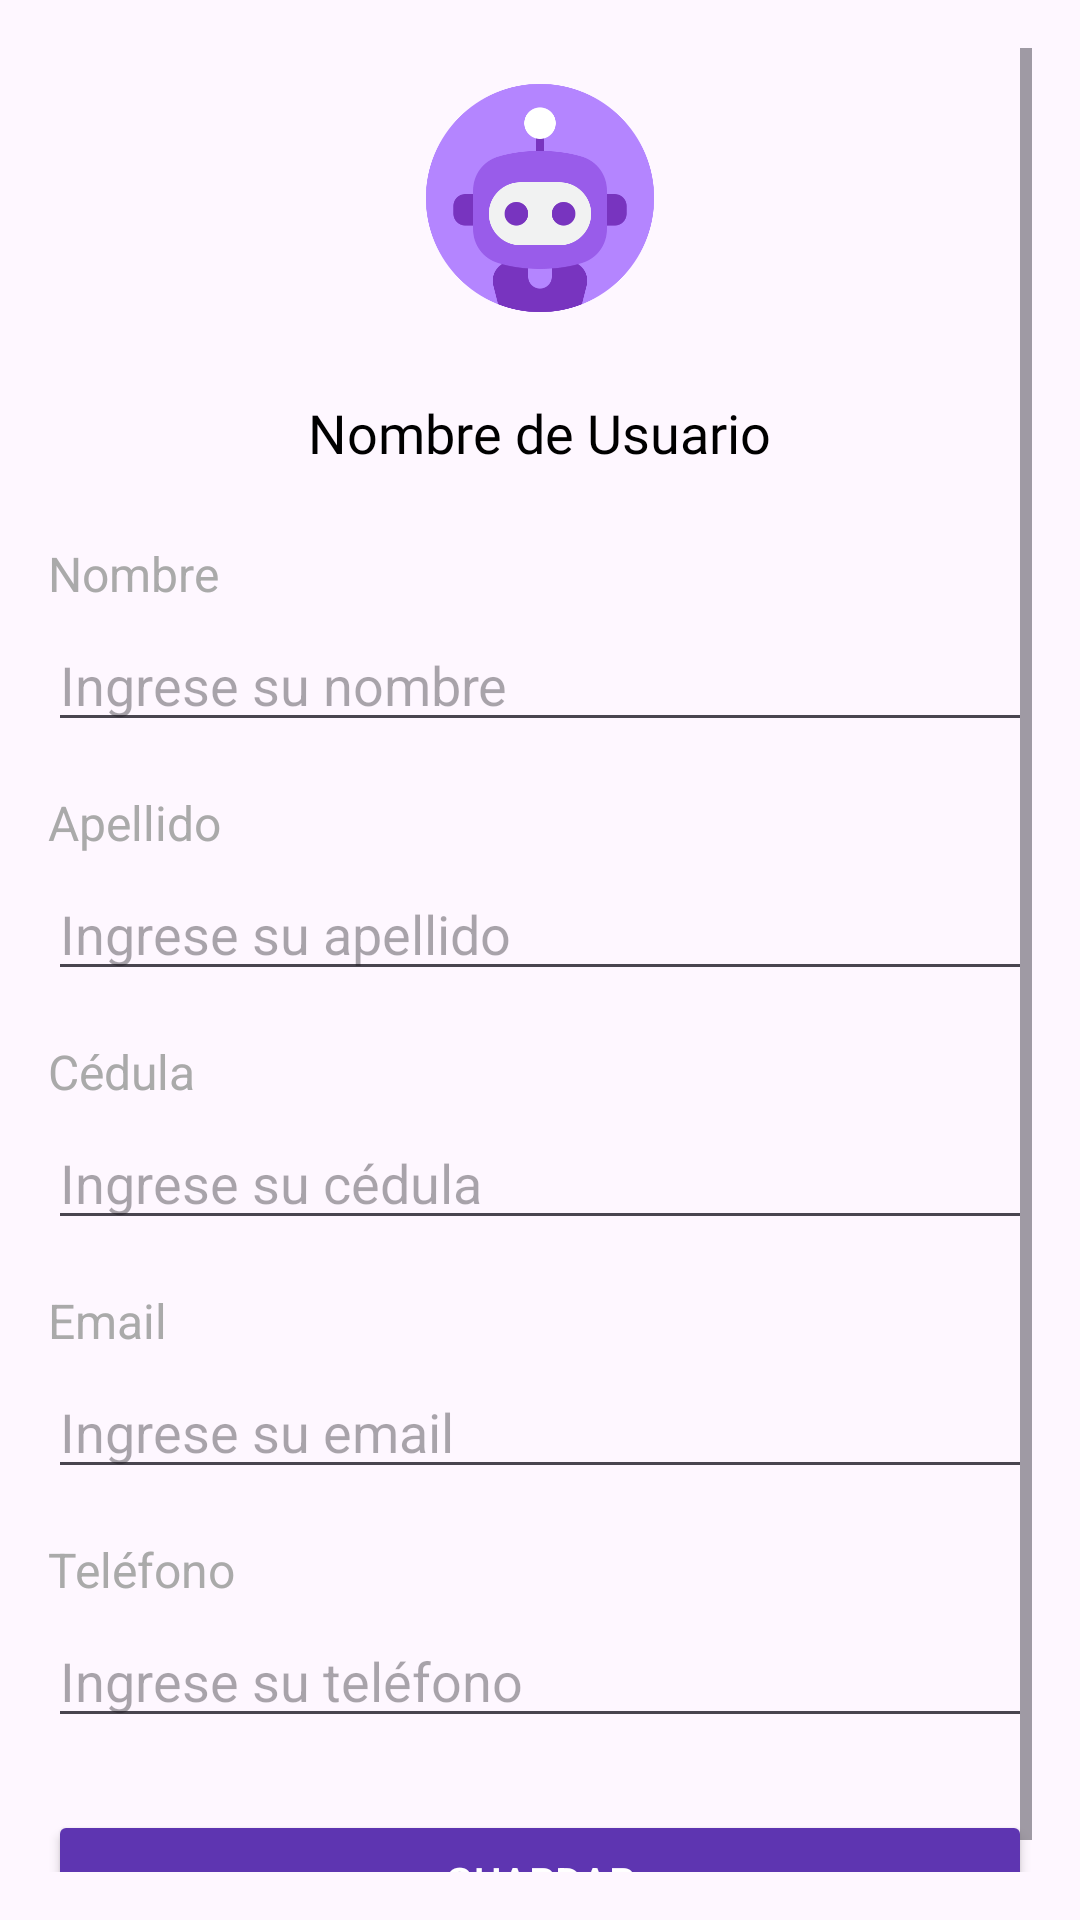

Screen size 1080px×1920px. Icon name, then its box in pixels as (x1,y1,x2,y2):
Foto de perfil: (426,84,654,312)
